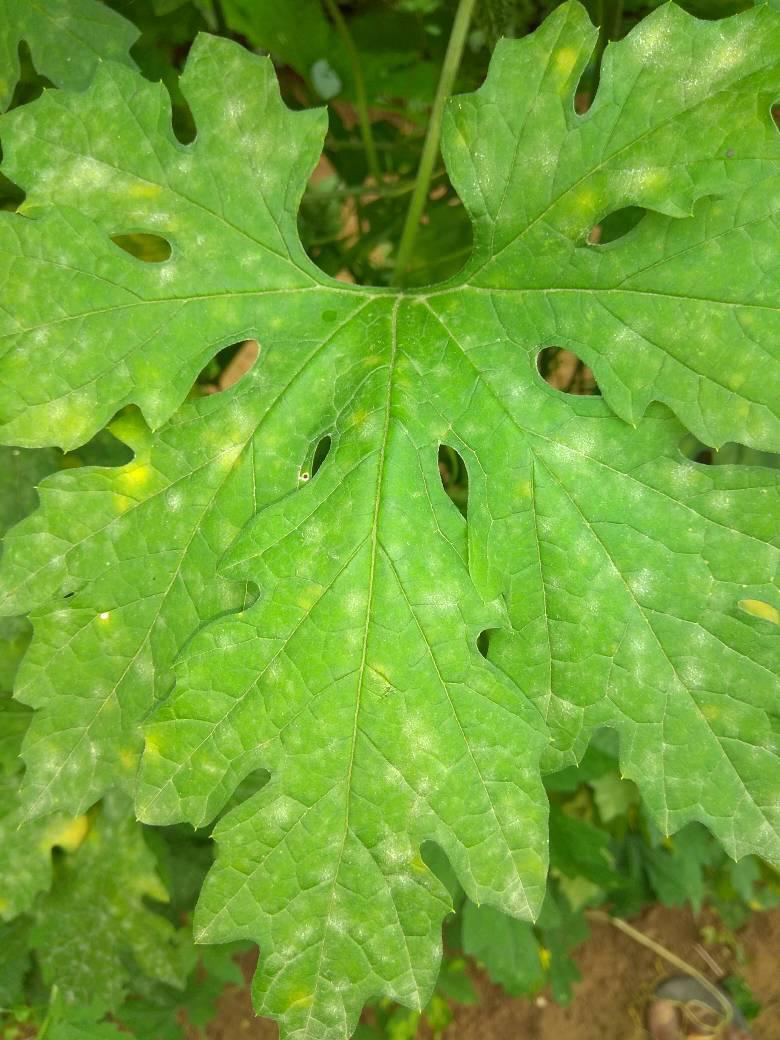BitterGround_PowderyMildew: (15, 57, 780, 953)
